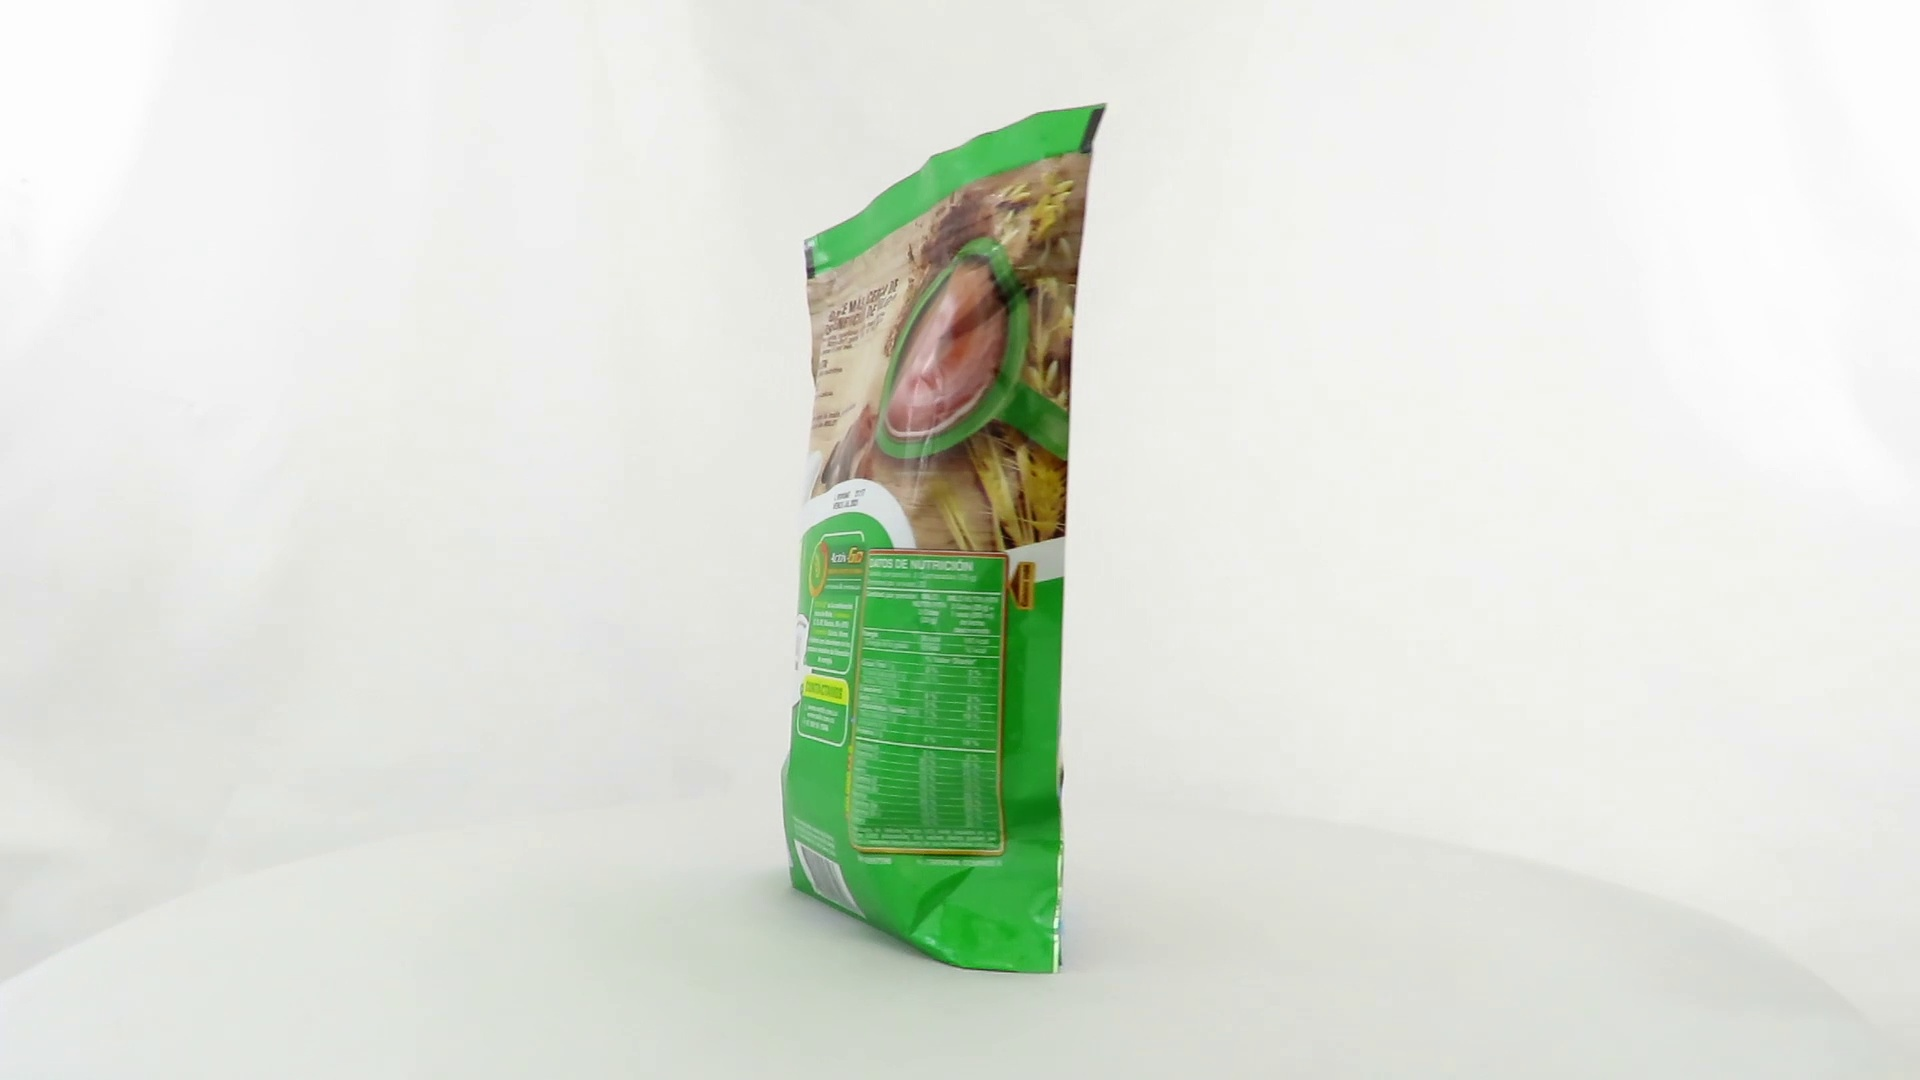COL0170205DYP50000: (775, 98, 1113, 981)
